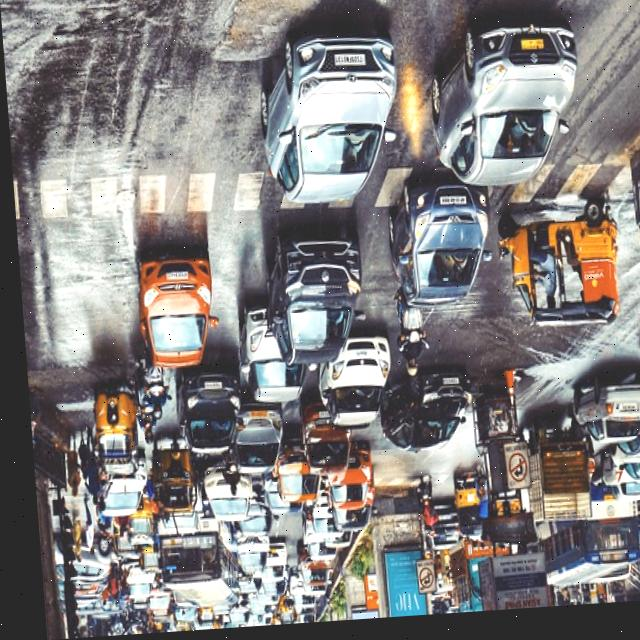plate: (332, 56, 368, 77), (435, 200, 464, 217), (520, 42, 547, 60), (158, 270, 184, 285), (196, 383, 216, 396), (612, 410, 633, 422), (347, 352, 365, 363), (142, 378, 157, 385)
